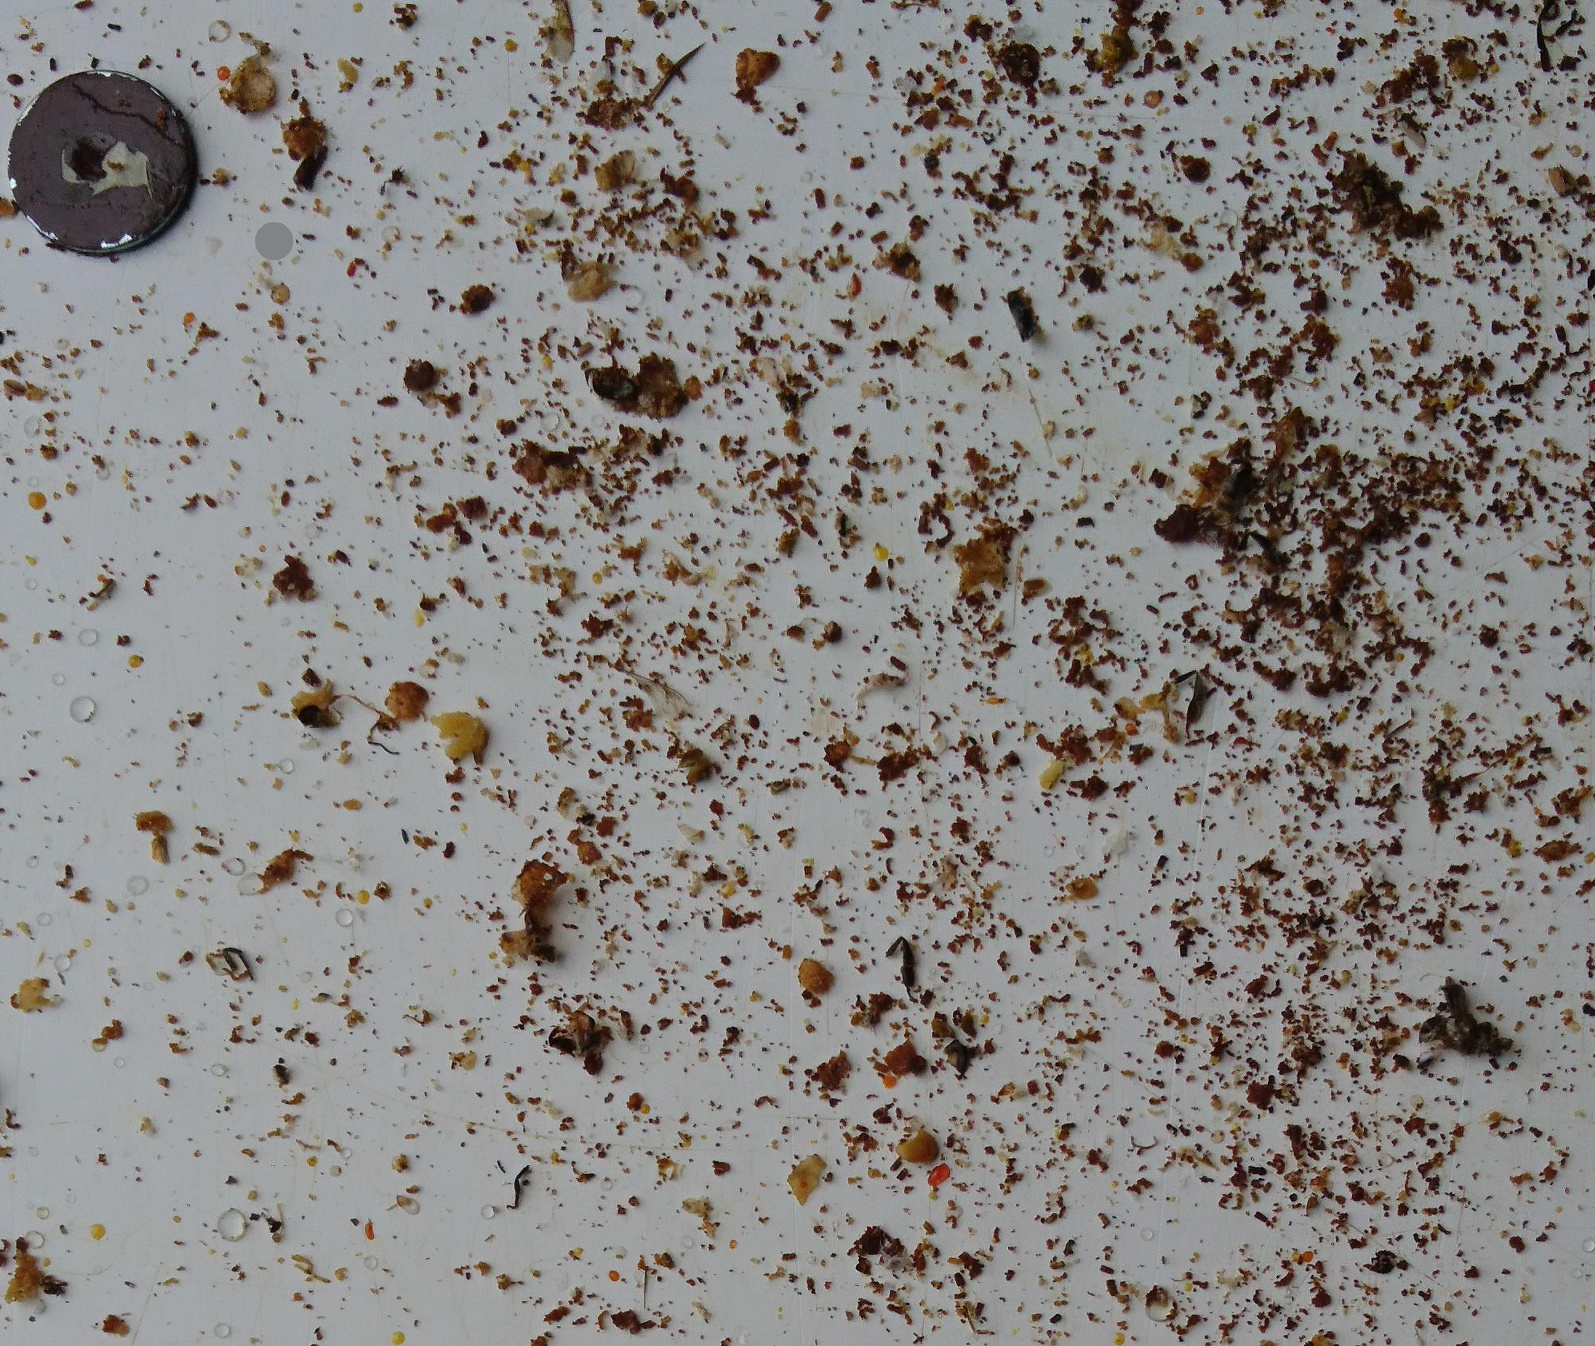Varroa: (5, 73, 24, 95), (743, 714, 761, 732), (1348, 1187, 1365, 1204), (416, 596, 432, 614)
